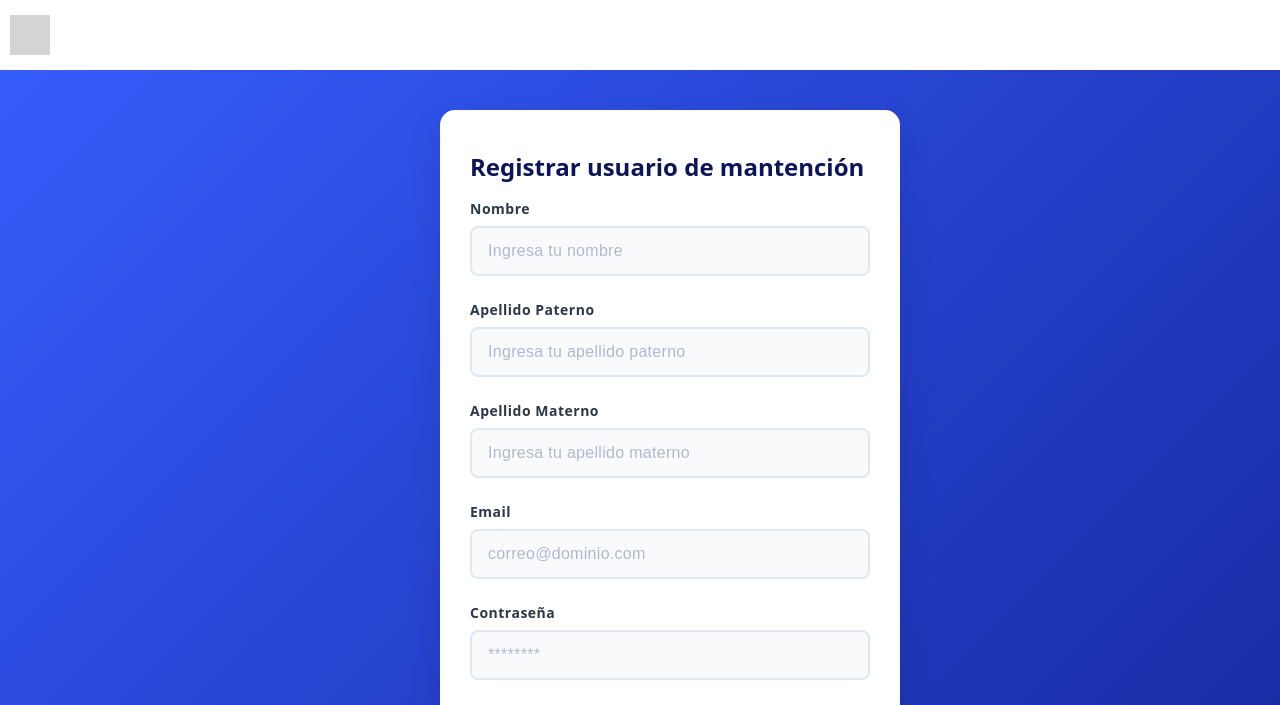
Test case: RegisterMaintainer › muestra error si contraseñas no coinciden
In the field named "nombre": (670, 251) [470, 226, 870, 276], type "Ana"
In the field named "apellidoPaterno": (670, 352) [470, 327, 870, 377], type "P"
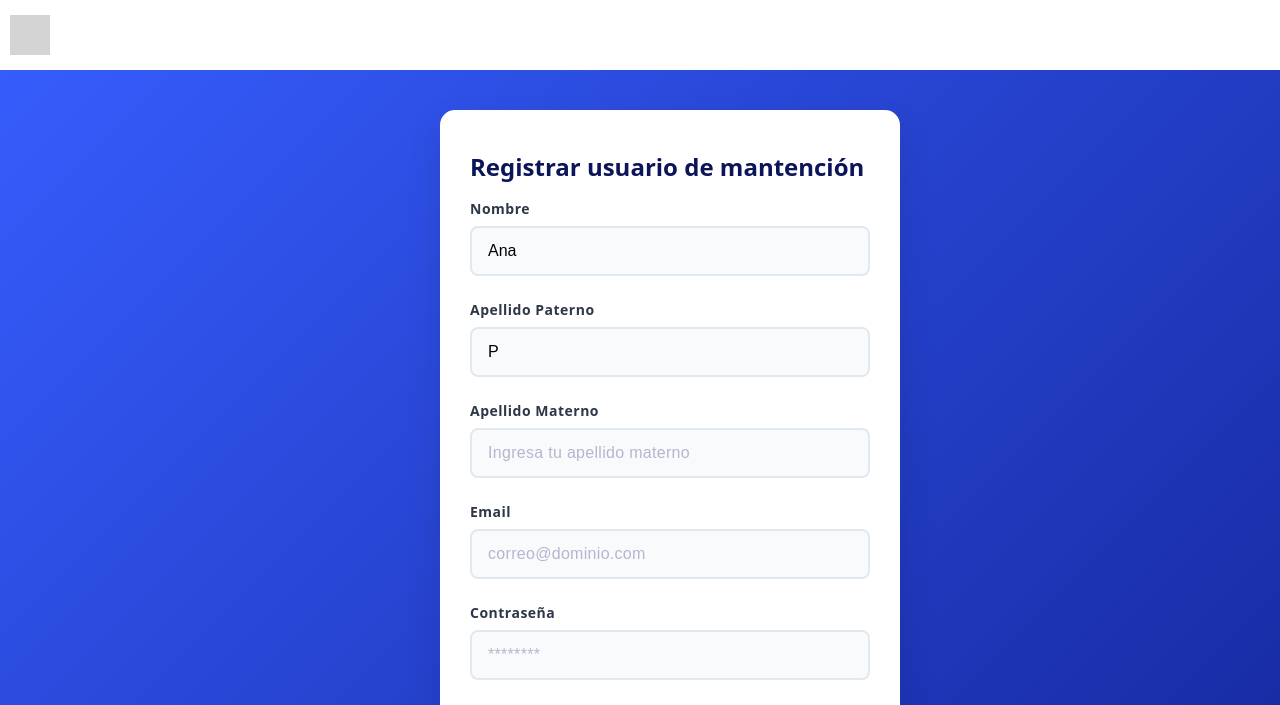
In the field named "apellidoMaterno": (670, 453) [470, 428, 870, 478], type "M"
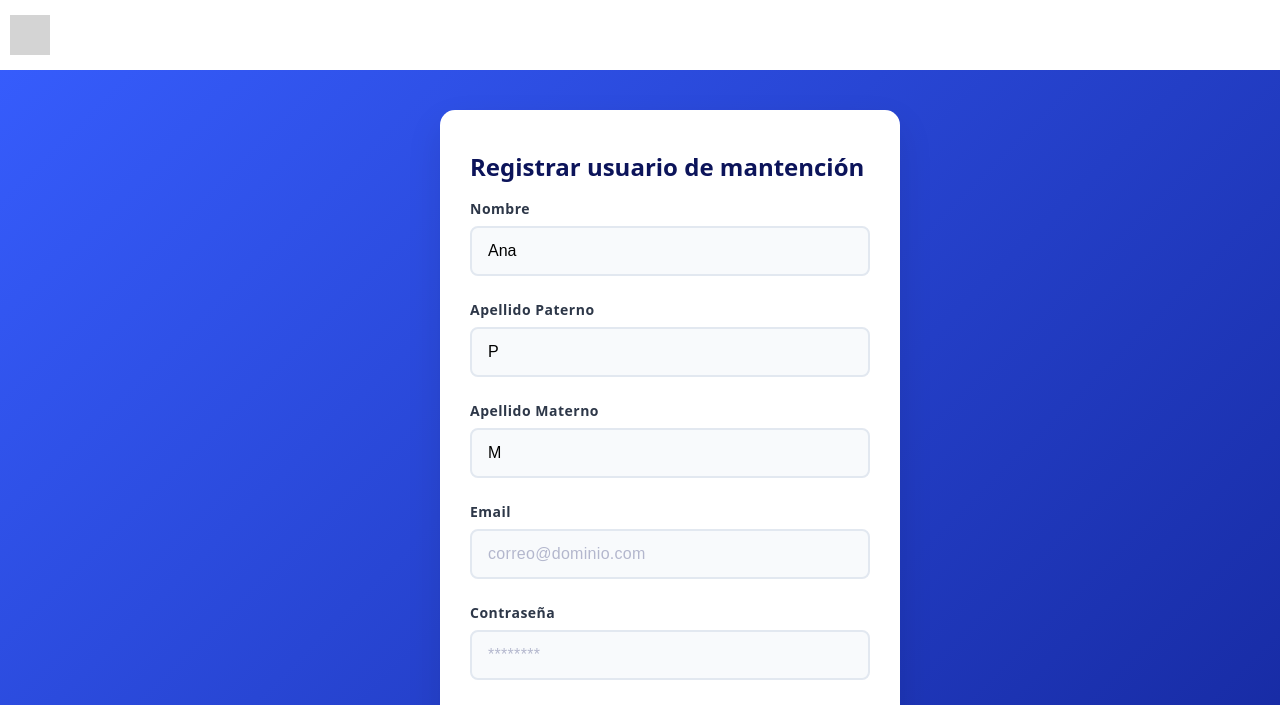
In the field named "email": (670, 554) [470, 529, 870, 579], type "a@b.com"
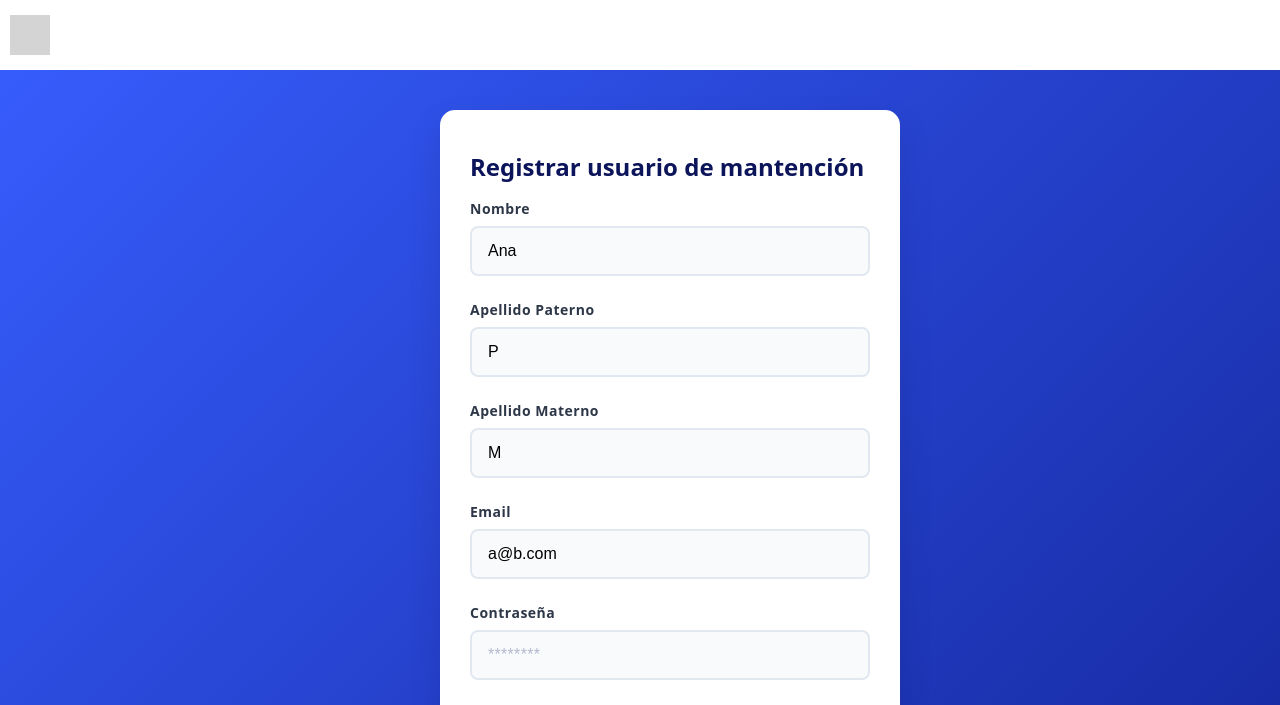
In the password field named "password": (670, 655) [470, 630, 870, 680], type "123"
(page scrolled)
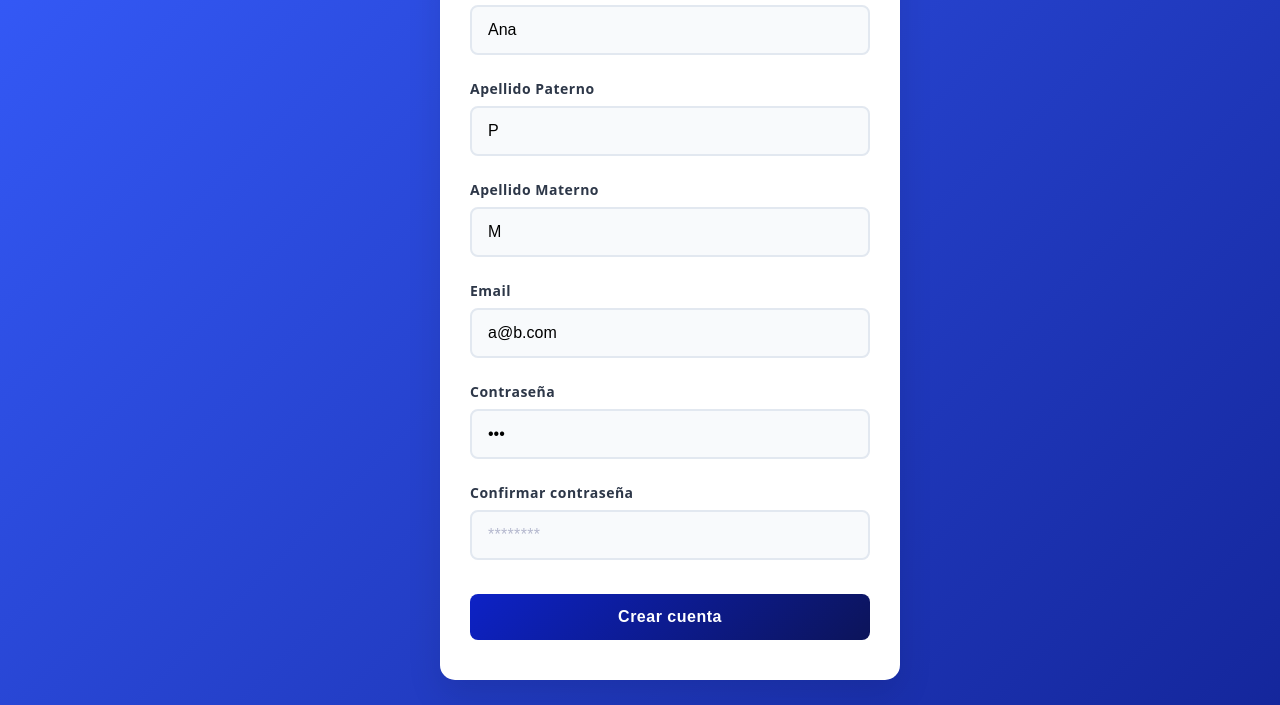
In the password field named "confirmPassword": (670, 535) [470, 510, 870, 560], type "456"
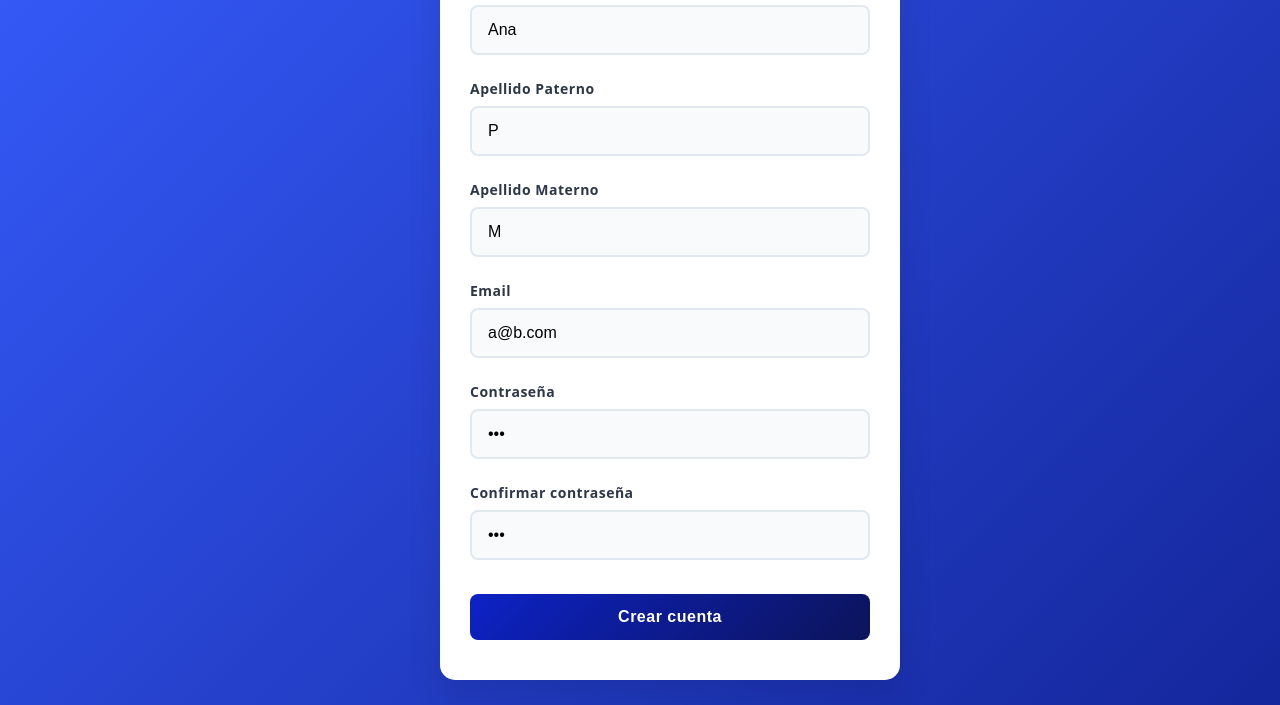
Click the button "Crear cuenta": (670, 617) [470, 594, 870, 640]
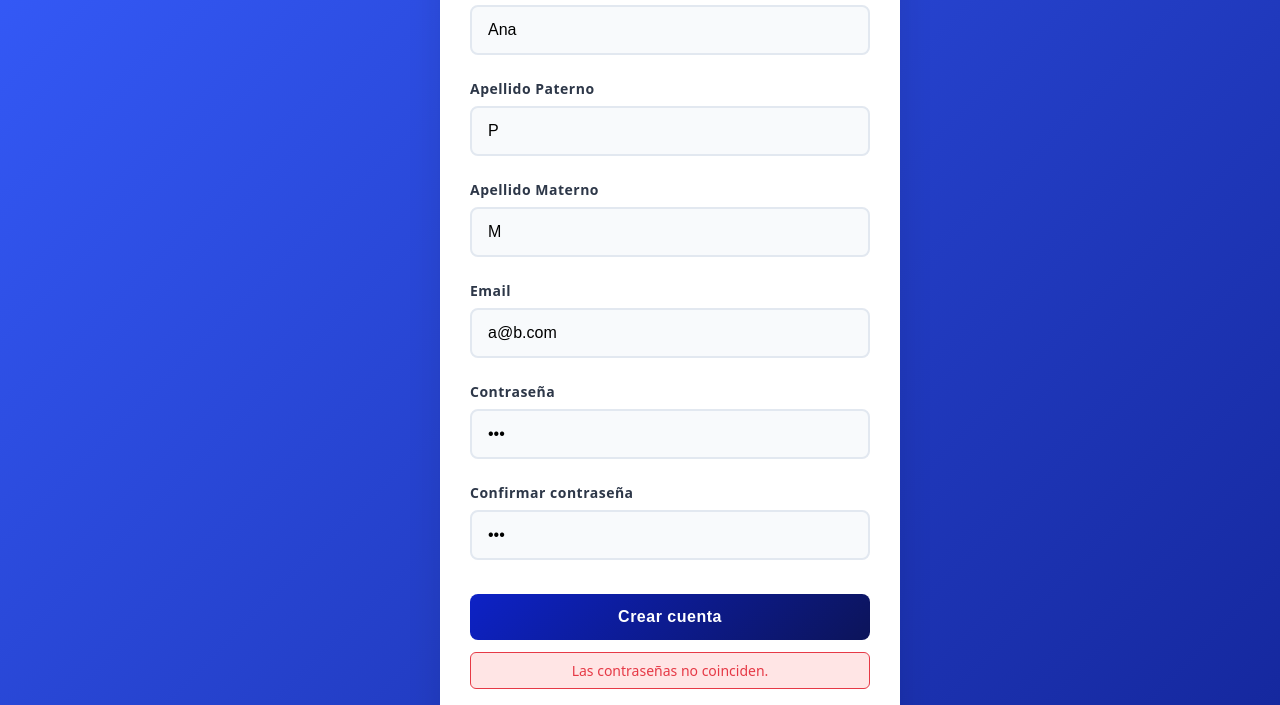
Check: the text "Las contraseñas no coinciden." is shown, box [470, 652, 870, 689]
